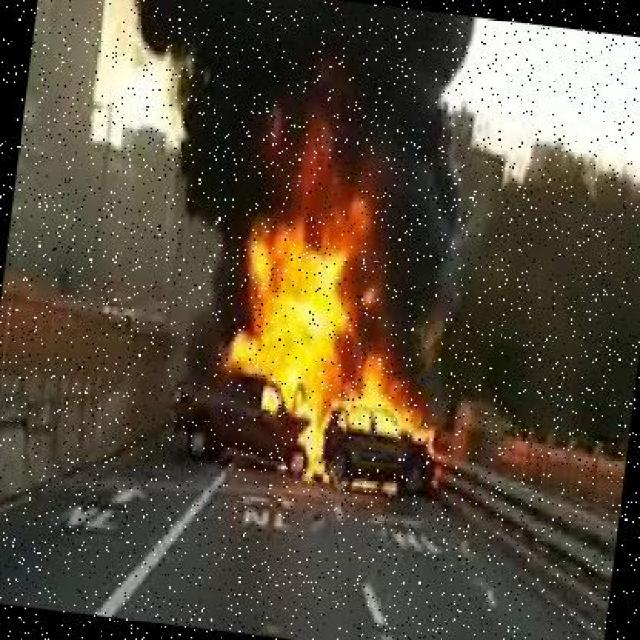fire: (209, 172, 471, 506)
